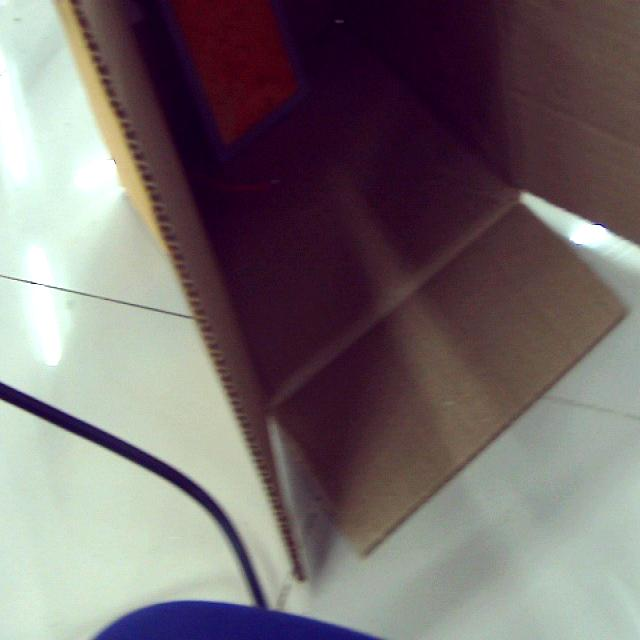block: (148, 1, 311, 166)
